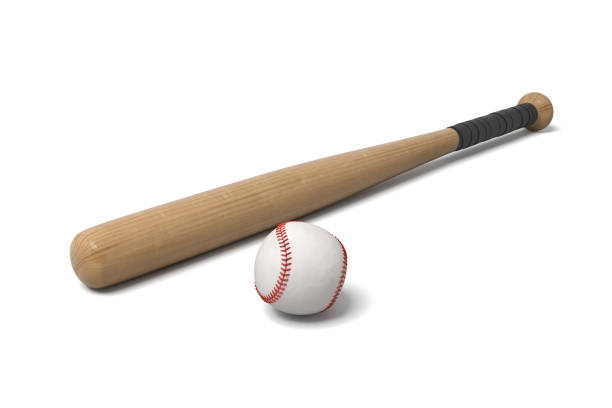bita: (68, 91, 553, 289)
